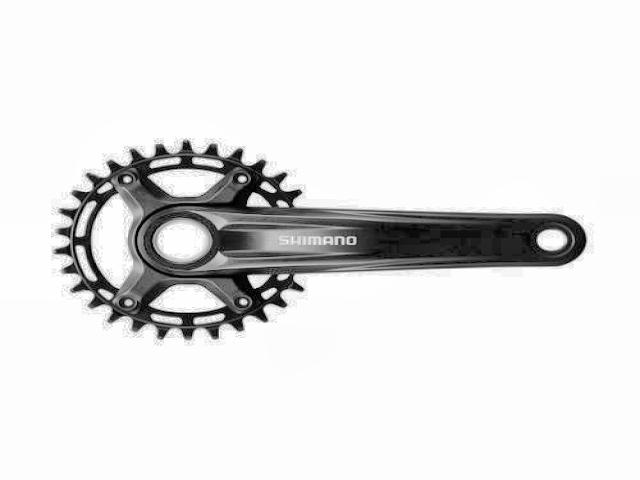cranks_set: (53, 137, 585, 336)
